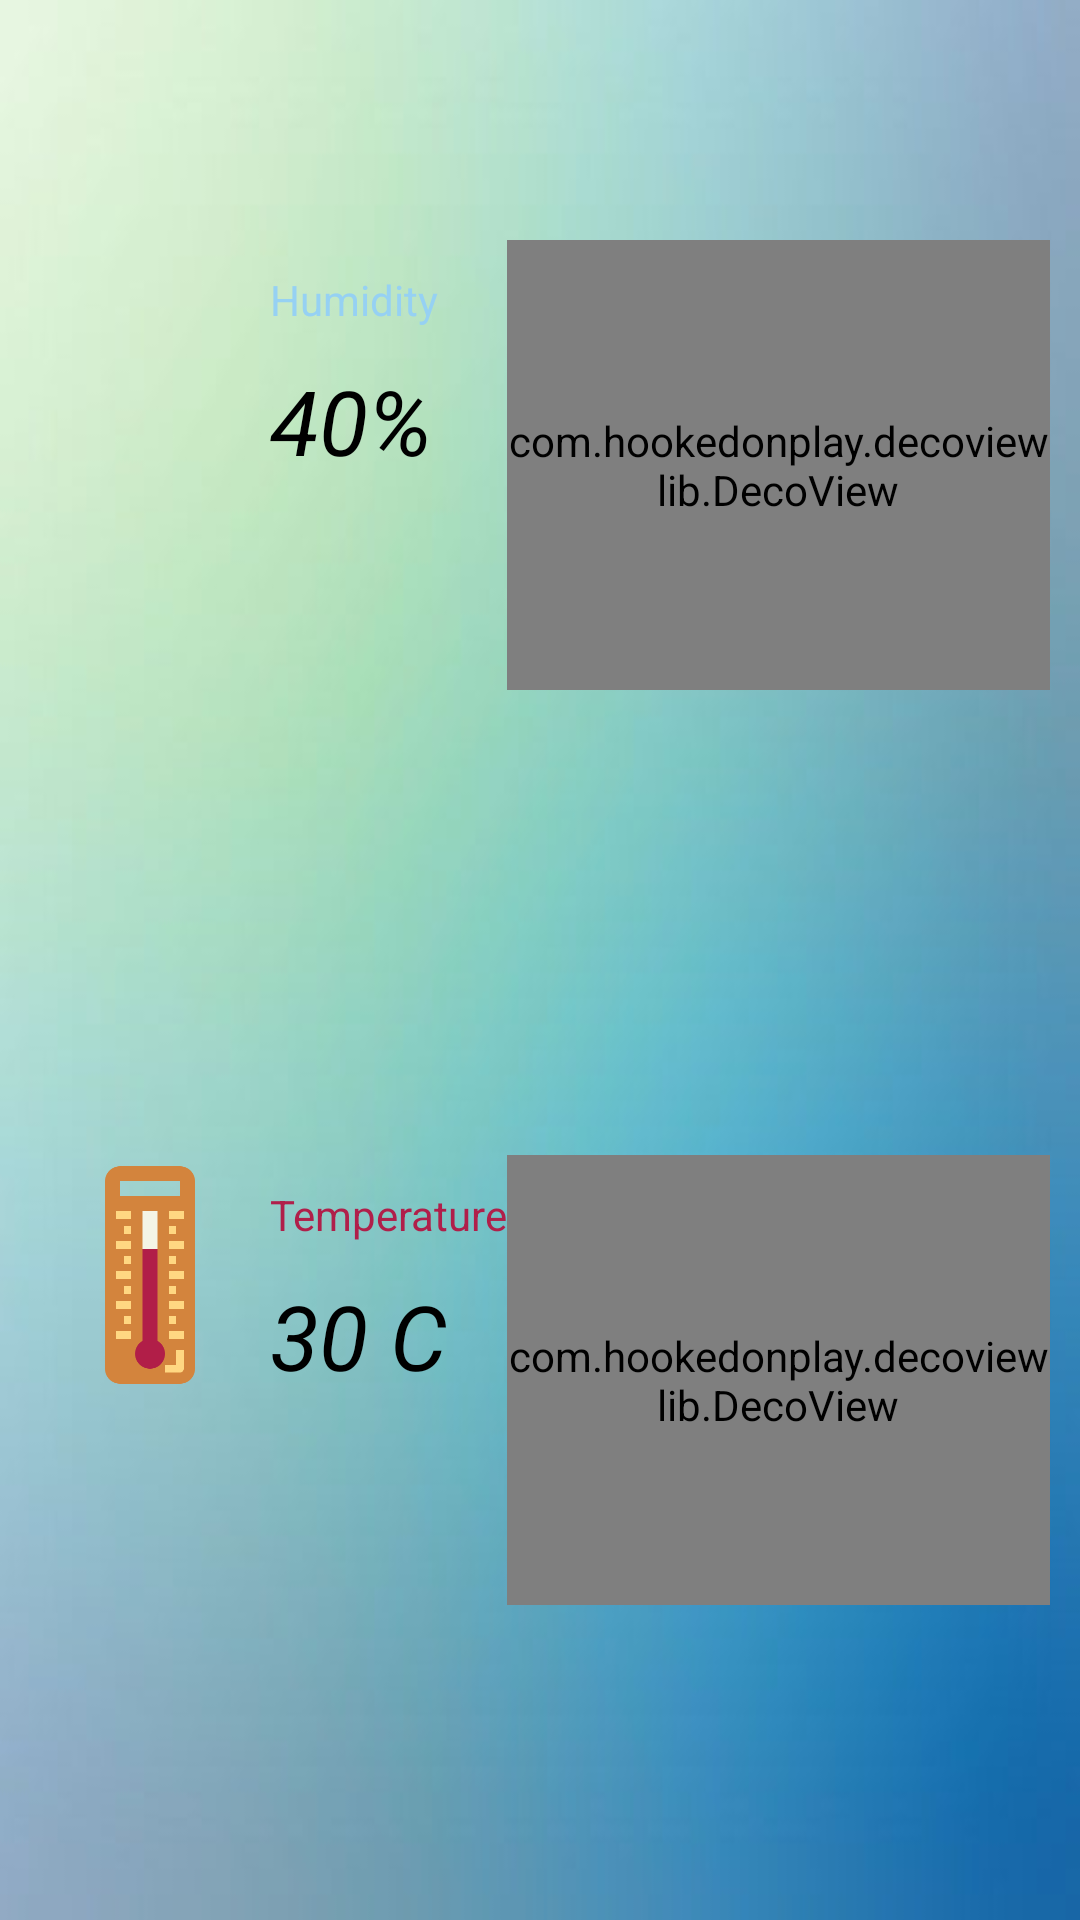

Point at icon controls on the screen. Image size 1080px×1920px, points as (x,y).
thermometer: (150,1275)
